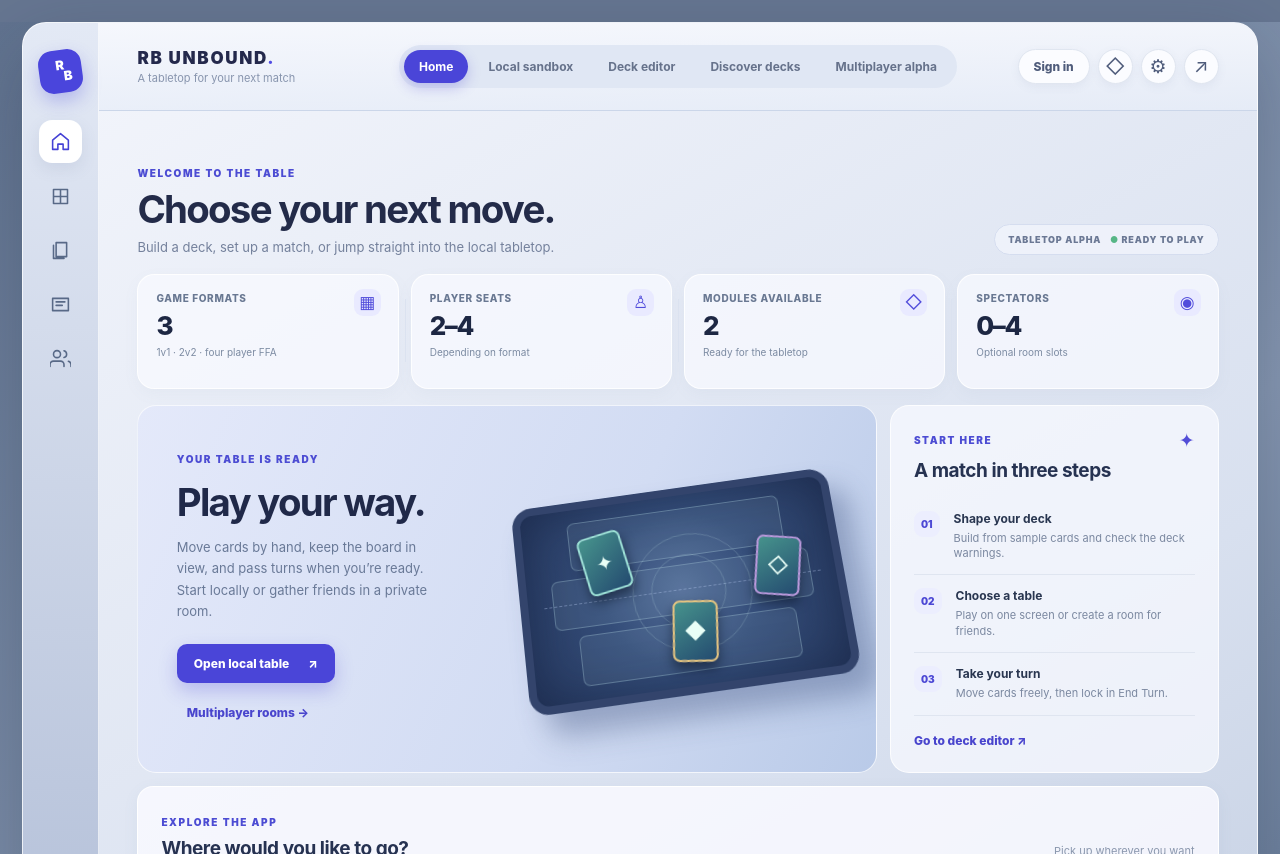
Scenario: dashboard navigation › opens on Home and launches the table and deck editor
The width and height of the screenshot is (1280, 854).
Check: the heading "Choose your next move." is shown, box [137,189,555,231]
Click the button "Open local table ↗". click: (256, 664)
box: [177,644,335,684]
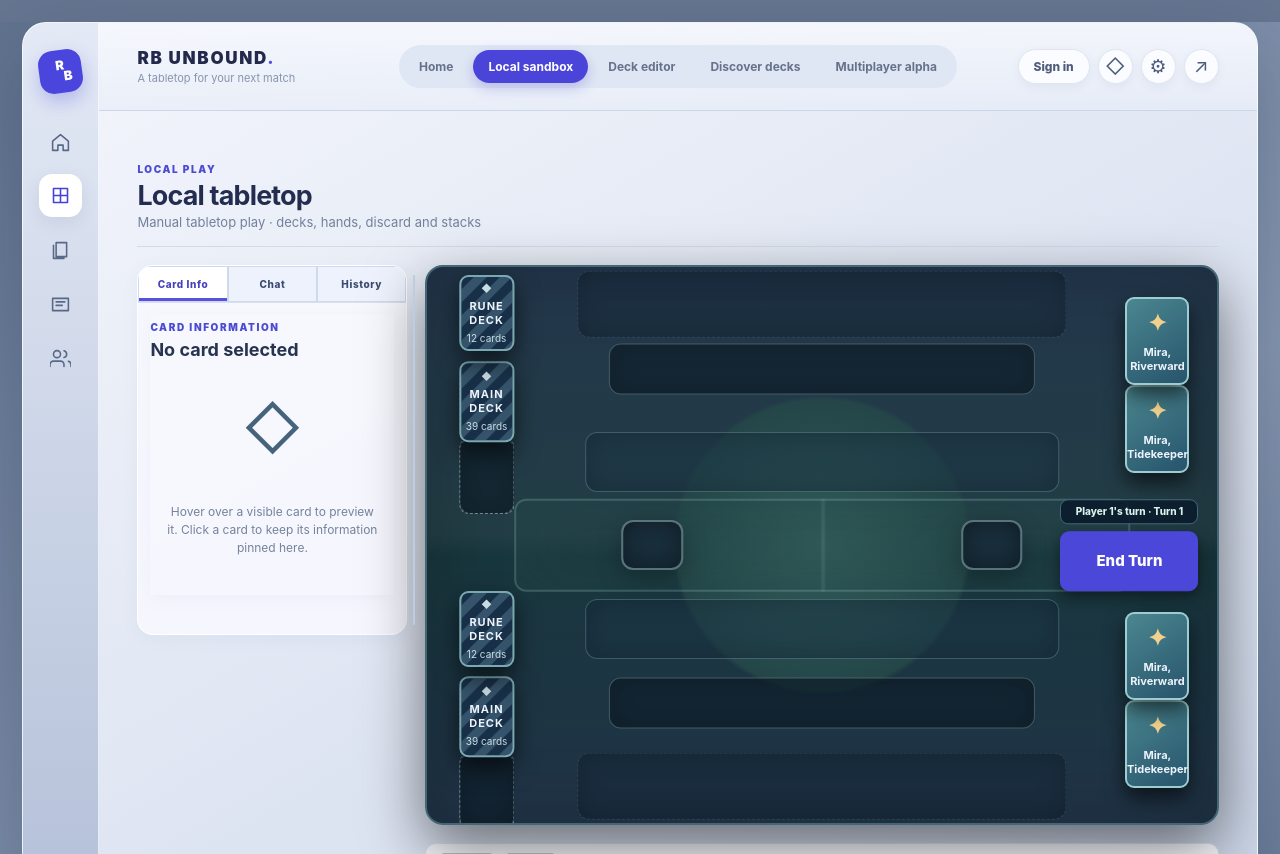
Check: the element named "RB Unbound tabletop board" is shown, box [425,265,1219,825]
Click the button "Home". click: (436, 66)
box: [404,50,468,83]
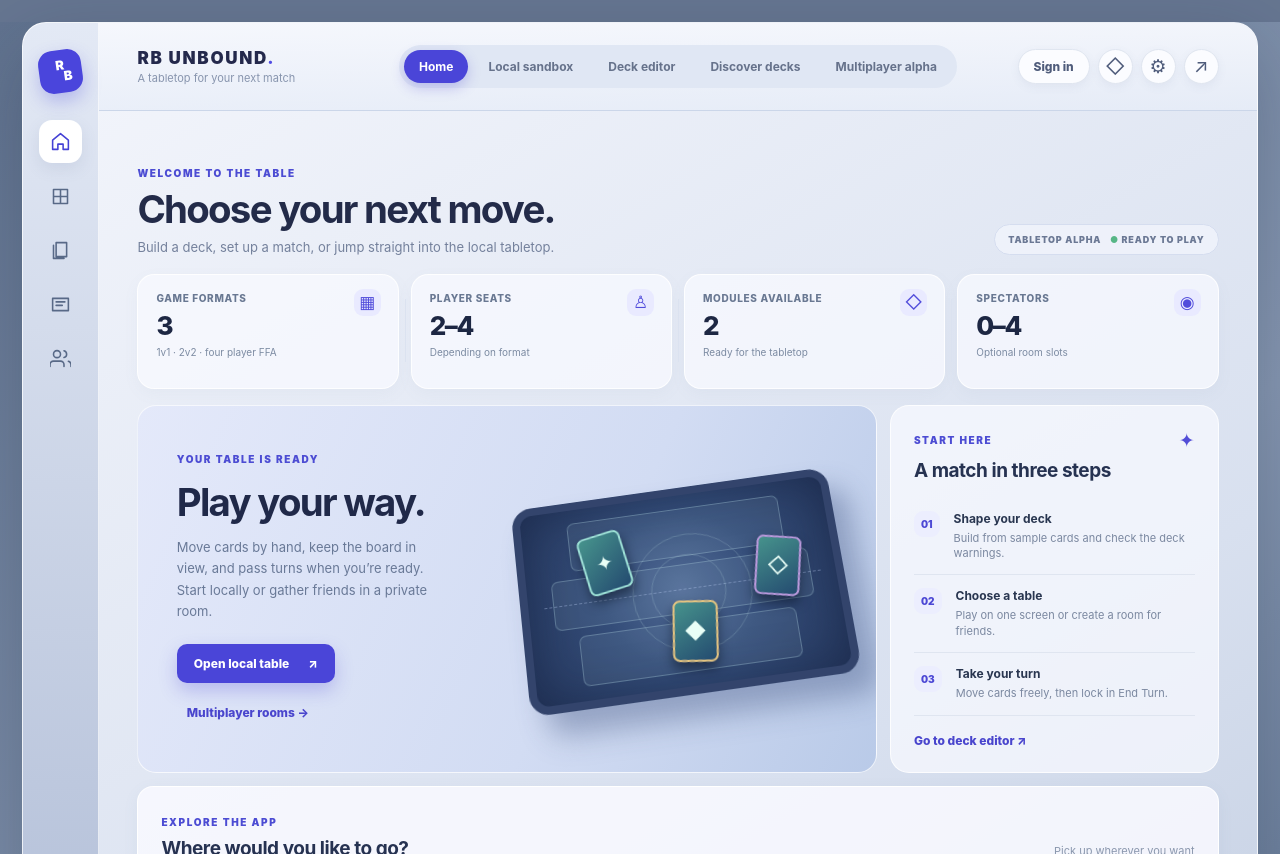
Check: the heading "Choose your next move." is shown, box [137,189,555,231]
Click the button "Go to deck editor ↗". click: (970, 740)
box: [914,733,1026,748]
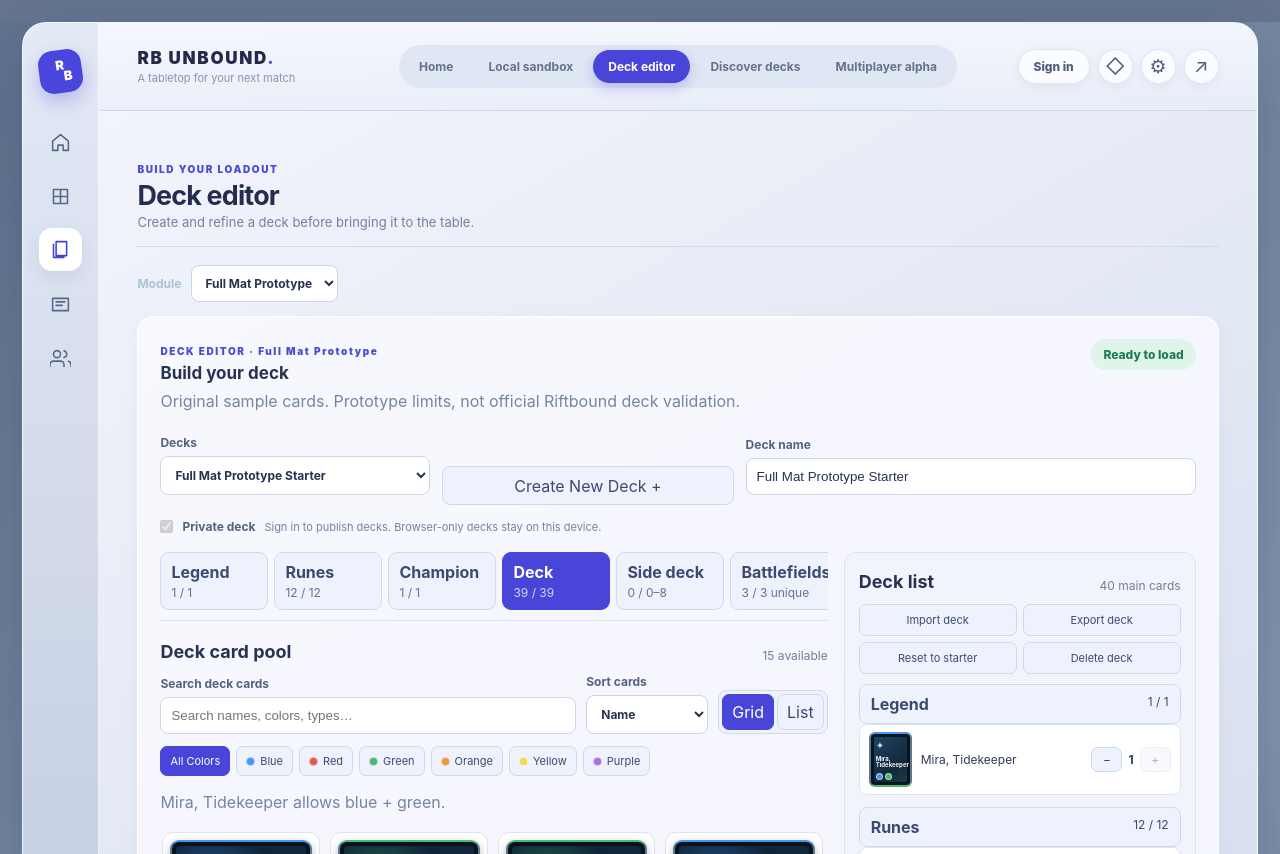
Check: the heading "Deck editor" is shown, box [137,179,279,211]
